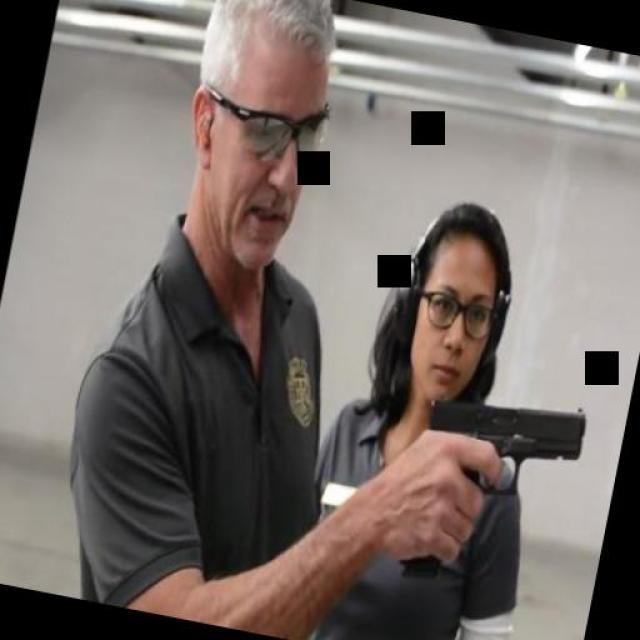gun: (394, 382, 591, 598)
